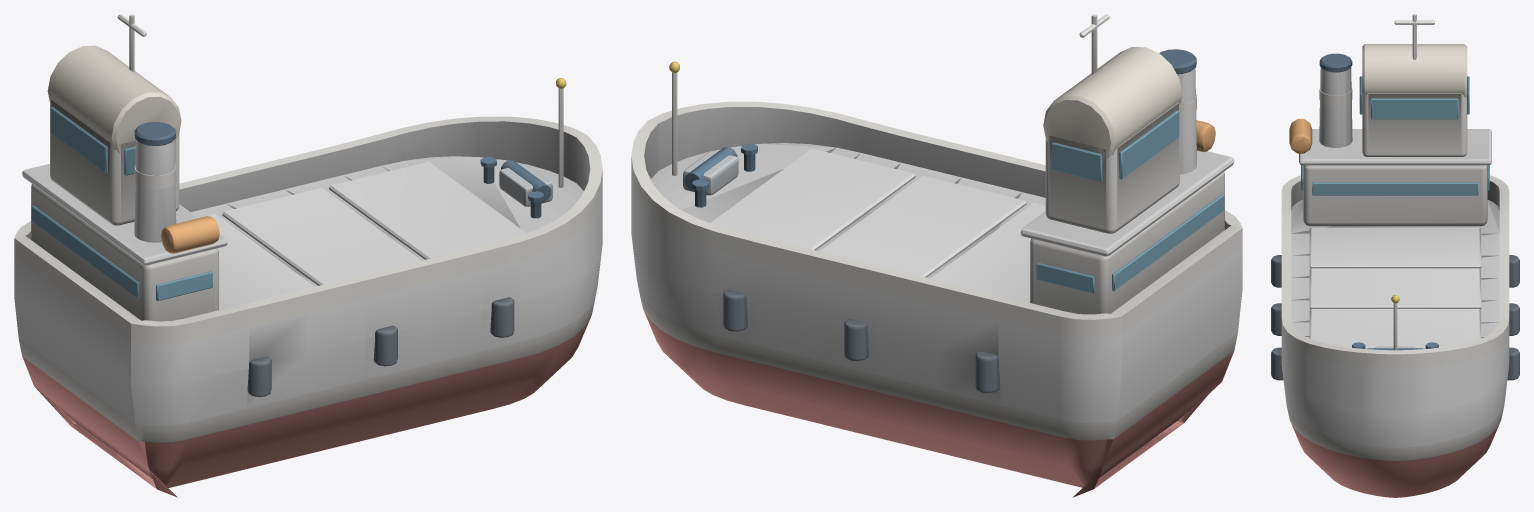
The model's file is ship_coaster.glb.
The picture shows the model from 3 angles, left to right: view 1: azimuth 30°, elevation 25°; view 2: azimuth 150°, elevation 25°; view 3: azimuth 270°, elevation 25°; orthographic projection. The views are drawn at different scales.
Visible parts, largest first — view 1: ship_coaster; view 2: ship_coaster; view 3: ship_coaster.
Boxes of the visible parts, x1,y1,x2,y2 form: ship_coaster: (14,14,602,497); ship_coaster: (631,14,1242,497); ship_coaster: (1271,14,1519,497).
Bounding box in the file's own units: 5.3 × 4.19 × 2.84.
